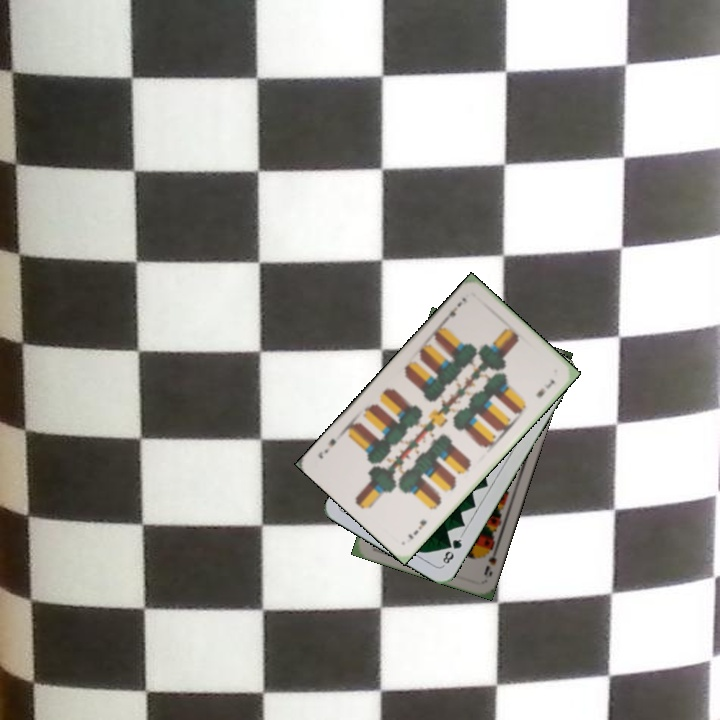E7: (440, 293, 470, 324), (403, 515, 429, 542)
G8: (438, 531, 465, 568)
S9: (480, 541, 501, 579)
